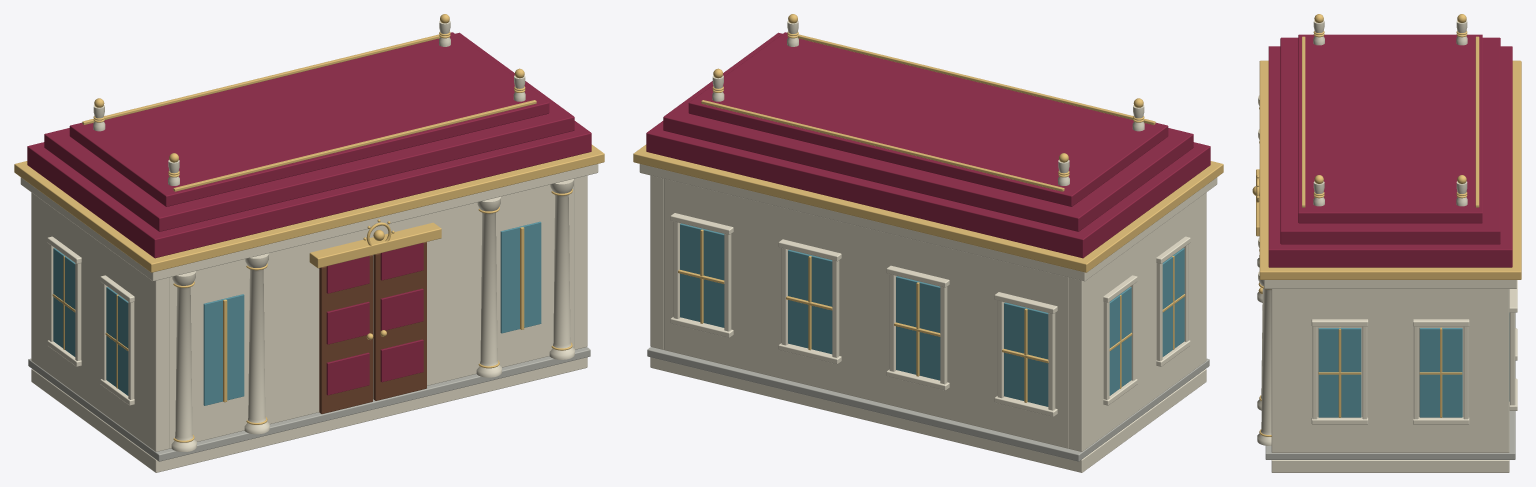
3 renders of one model, left to right at view 1: azimuth 30°, elevation 25°; view 2: azimuth 150°, elevation 25°; view 3: azimuth 270°, elevation 25°, orthographic. The views are drawn at different scales.
Parts seen in each view (by area): view 1: palace-audience-house; view 2: palace-audience-house; view 3: palace-audience-house.
Boxes of the visible parts, x1,y1,x2,y2 form: palace-audience-house: [14, 14, 604, 472]; palace-audience-house: [633, 14, 1223, 472]; palace-audience-house: [1252, 14, 1521, 472].
Bounding box in the file's own units: 8.4 × 5.15 × 4.52.
